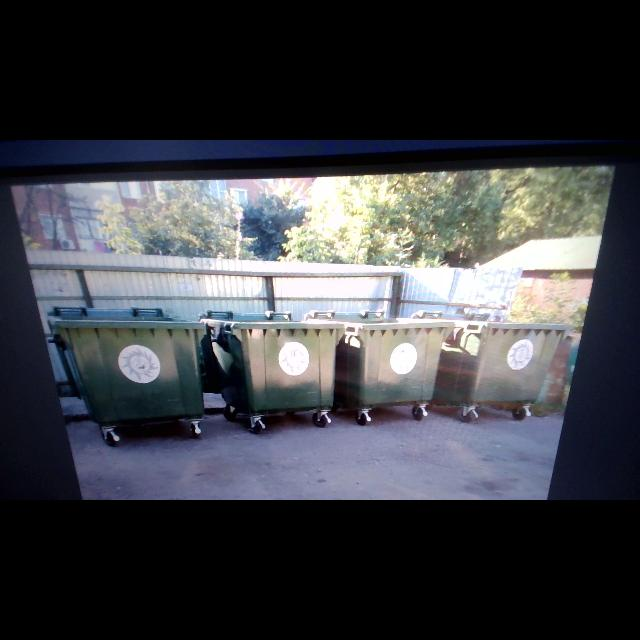Trash_Can_Empty: (47, 313, 204, 424), (411, 313, 576, 402), (199, 313, 348, 410), (304, 313, 454, 407)
